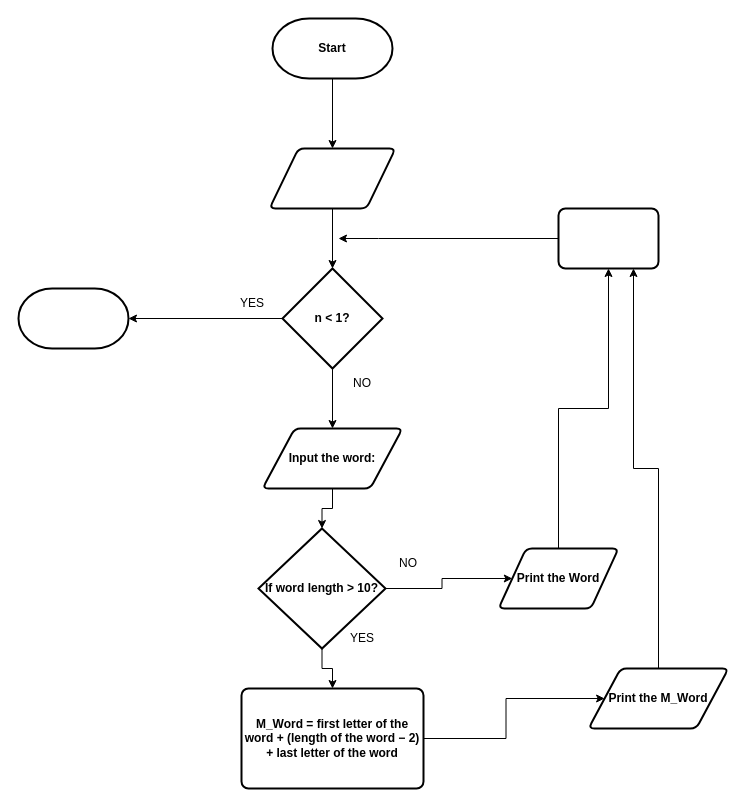
The diagram is 746 pixels wide and 806 high, and some of its shapes have lost their labels. Here are the shapes that lost their labels. From the top down, the centre of each, then its label:
At (x=332, y=178): "Input n :".
At (x=608, y=238): "n = n - 1".
At (x=73, y=318): "End".
